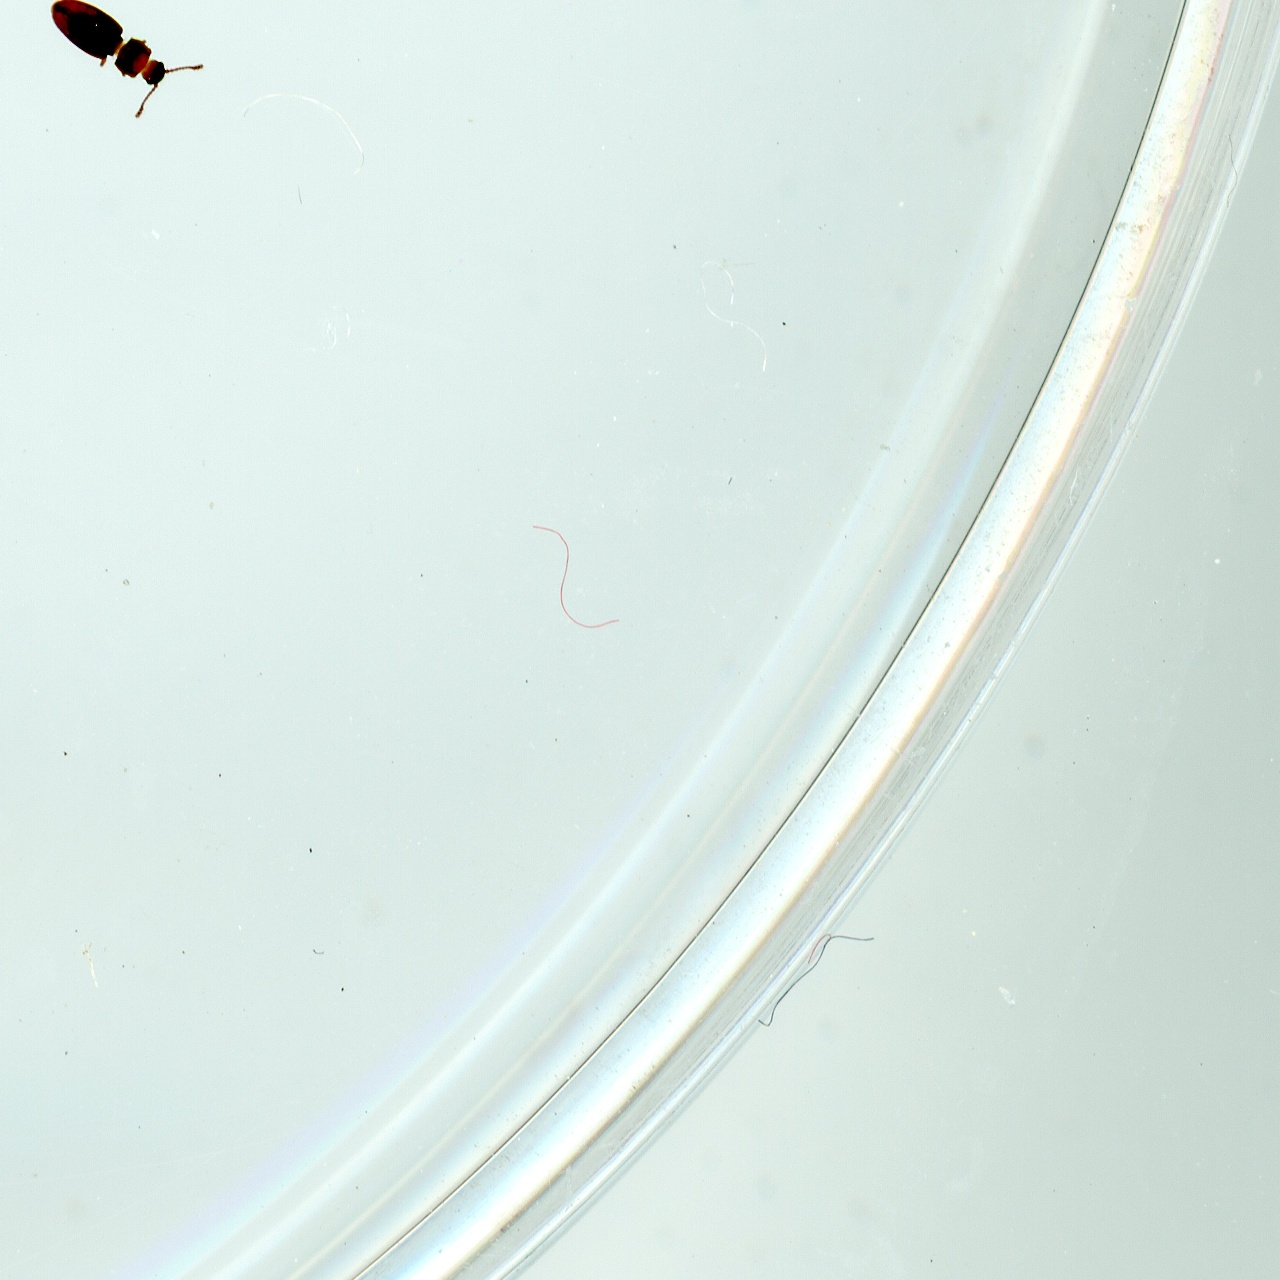arthropod: (30, 0, 211, 132)
